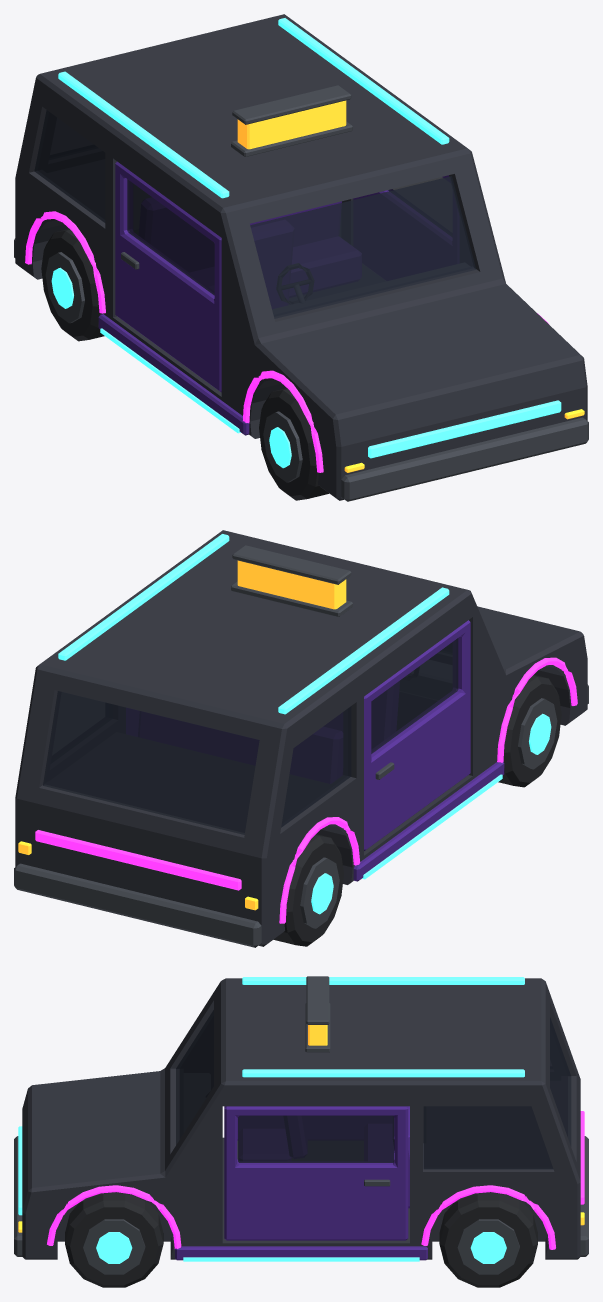
Rendered from neon-future-cab.glb.
3 views of the same model, one above another, from view 1: azimuth 30°, elevation 25°; view 2: azimuth 150°, elevation 25°; view 3: azimuth 270°, elevation 25° (orthographic). The views are drawn at different scales.
Visible parts, largest first — view 1: Body, Glass_Windshield, Door_L, Bumper_Front, Door_R, PassengerSeat_Back, Door_L_Glass, Glass_Quarter_L, PassengerSeat, FL, RL, RoofSign (+17 smaller); view 2: Body, Glass_Rear, Door_L, Bumper_Rear, PassengerSeat_Back, Door_L_Glass, Glass_Quarter_L, RL, FL, RoofSign, Taillight_Bar, Skirt_L (+14 smaller); view 3: Body, Door_R, Glass_Quarter_R, Door_R_Glass, FR, RR, Skirt_R, Glass_Windshield, RoofRail_R, Door_L, RoofRail_L, FR_Hub (+18 smaller).
Boxes of the visible parts, left/top/right/bottom form: Body: left=15, top=14, right=587, bottom=500; Glass_Windshield: left=250, top=176, right=476, bottom=318; Door_L: left=115, top=161, right=221, bottom=392; Bumper_Front: left=341, top=417, right=588, bottom=501; Door_R: left=353, top=175, right=458, bottom=280; PassengerSeat_Back: left=139, top=198, right=341, bottom=271; Door_L_Glass: left=127, top=179, right=214, bottom=295; Glass_Quarter_L: left=34, top=110, right=105, bottom=222; PassengerSeat: left=191, top=237, right=361, bottom=297; FL: left=259, top=388, right=328, bottom=500; RL: left=41, top=228, right=104, bottom=341; RoofSign: left=237, top=100, right=346, bottom=149; Body: left=15, top=530, right=587, bottom=946; Glass_Rear: left=43, top=691, right=259, bottom=834; Door_L: left=364, top=620, right=470, bottom=850; Bumper_Rear: left=14, top=863, right=261, bottom=947; PassengerSeat_Back: left=138, top=711, right=342, bottom=783; Door_L_Glass: left=371, top=638, right=458, bottom=753; Glass_Quarter_L: left=281, top=706, right=351, bottom=827; RL: left=273, top=834, right=343, bottom=946; FL: left=498, top=675, right=561, bottom=787; RoofSign: left=237, top=560, right=346, bottom=609; Taillight_Bar: left=35, top=830, right=241, bottom=890; Skirt_L: left=353, top=762, right=504, bottom=881; Body: left=22, top=978, right=580, bottom=1259; Door_R: left=224, top=1106, right=408, bottom=1240; Glass_Quarter_R: left=423, top=1106, right=553, bottom=1169; Door_R_Glass: left=238, top=1115, right=394, bottom=1162; FR: left=65, top=1192, right=163, bottom=1287; RR: left=439, top=1192, right=537, bottom=1287; Skirt_R: left=175, top=1246, right=427, bottom=1260; Glass_Windshield: left=176, top=1010, right=213, bottom=1144; RoofRail_R: left=242, top=1069, right=524, bottom=1077; Door_L: left=237, top=1116, right=391, bottom=1140; RoofRail_L: left=242, top=977, right=524, bottom=984; FR_Hub: left=83, top=1219, right=145, bottom=1274.
Size of the model in its own units: 8 by 8.02 by 17.5.
